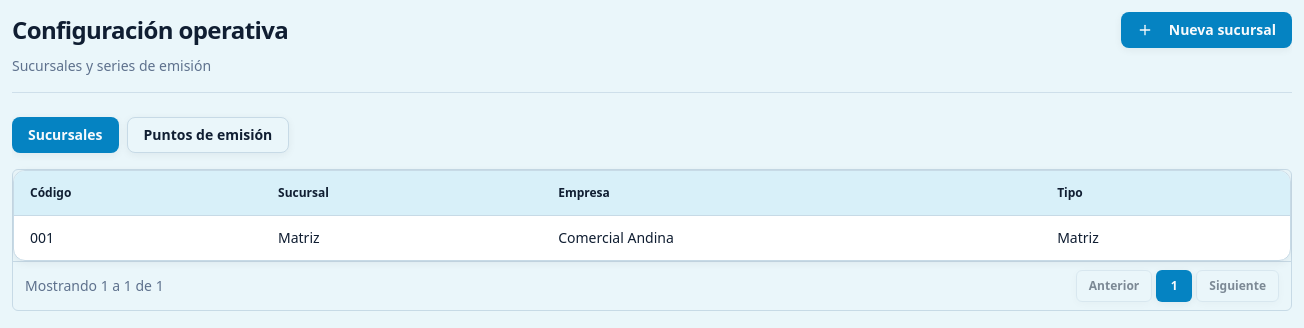
Test case: ConfiguracionOperativaPage › muestra modalidad y próximo folio completo en los puntos
What coordinates should you click on to do the following:
click the button "Puntos de emisión"
I would click on:
 (208, 135)
Its box is [127,117,289,153].
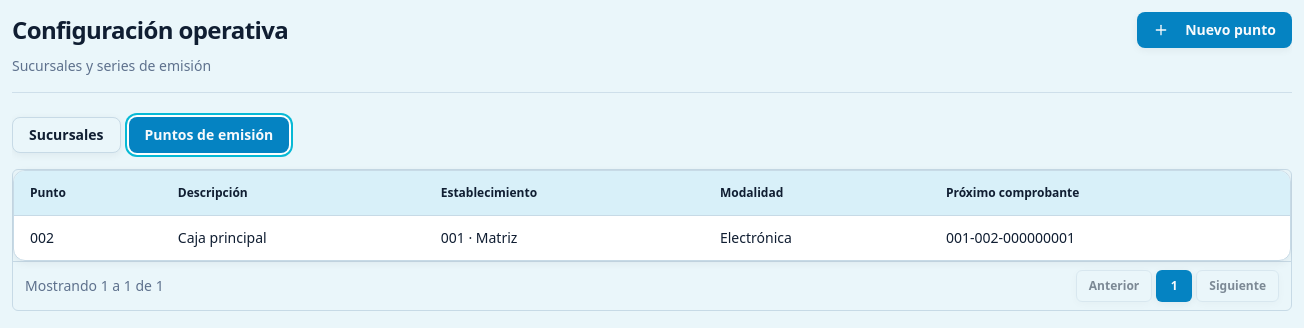
Now the text "Electrónica" is shown, box [704,215,930,260]
Now the text "001-002-000000001" is shown, box [930,215,1290,260]
